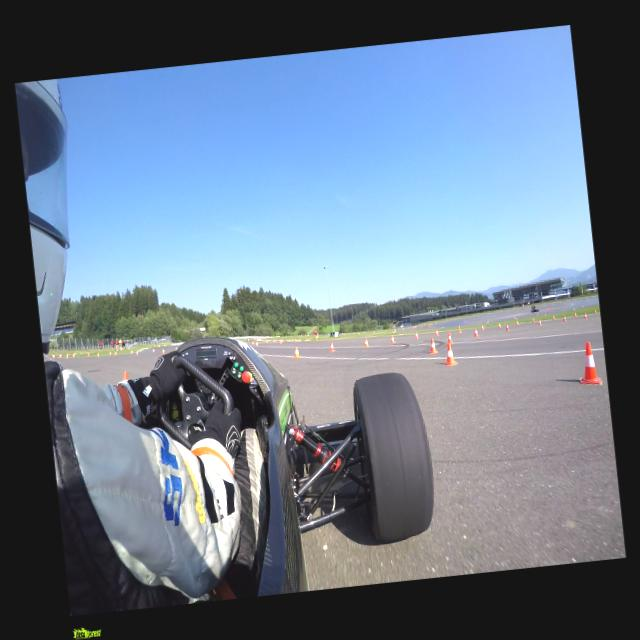orange_cone: (576, 340, 601, 384), (442, 342, 457, 366), (428, 338, 438, 353), (293, 347, 300, 358), (445, 332, 452, 342), (329, 342, 335, 352), (362, 338, 368, 347), (123, 371, 128, 381), (473, 328, 478, 336), (504, 322, 509, 330), (390, 334, 395, 342), (413, 332, 418, 339), (561, 315, 566, 321), (496, 322, 501, 328), (434, 329, 438, 336), (538, 318, 541, 324), (114, 350, 117, 356), (552, 314, 555, 319), (481, 324, 484, 329), (584, 312, 587, 317), (255, 341, 258, 346), (594, 308, 596, 314), (516, 320, 519, 324), (531, 318, 534, 322), (458, 326, 460, 332), (574, 312, 577, 316), (175, 346, 178, 350), (152, 347, 154, 352), (162, 348, 164, 353), (58, 354, 61, 357), (51, 354, 54, 357), (66, 354, 68, 358), (97, 352, 99, 356), (109, 350, 111, 354), (87, 352, 89, 356), (252, 340, 254, 344), (136, 350, 138, 354), (130, 349, 132, 353), (72, 354, 74, 356)
